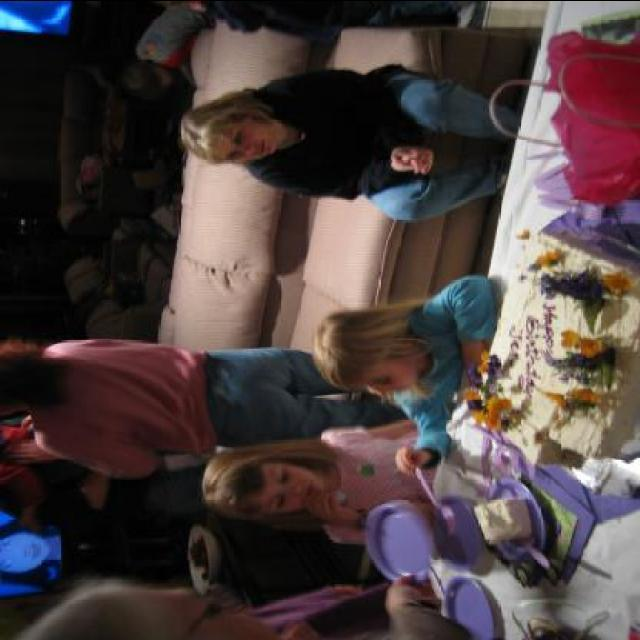Cake: (478, 230, 640, 468), (472, 501, 530, 542)
